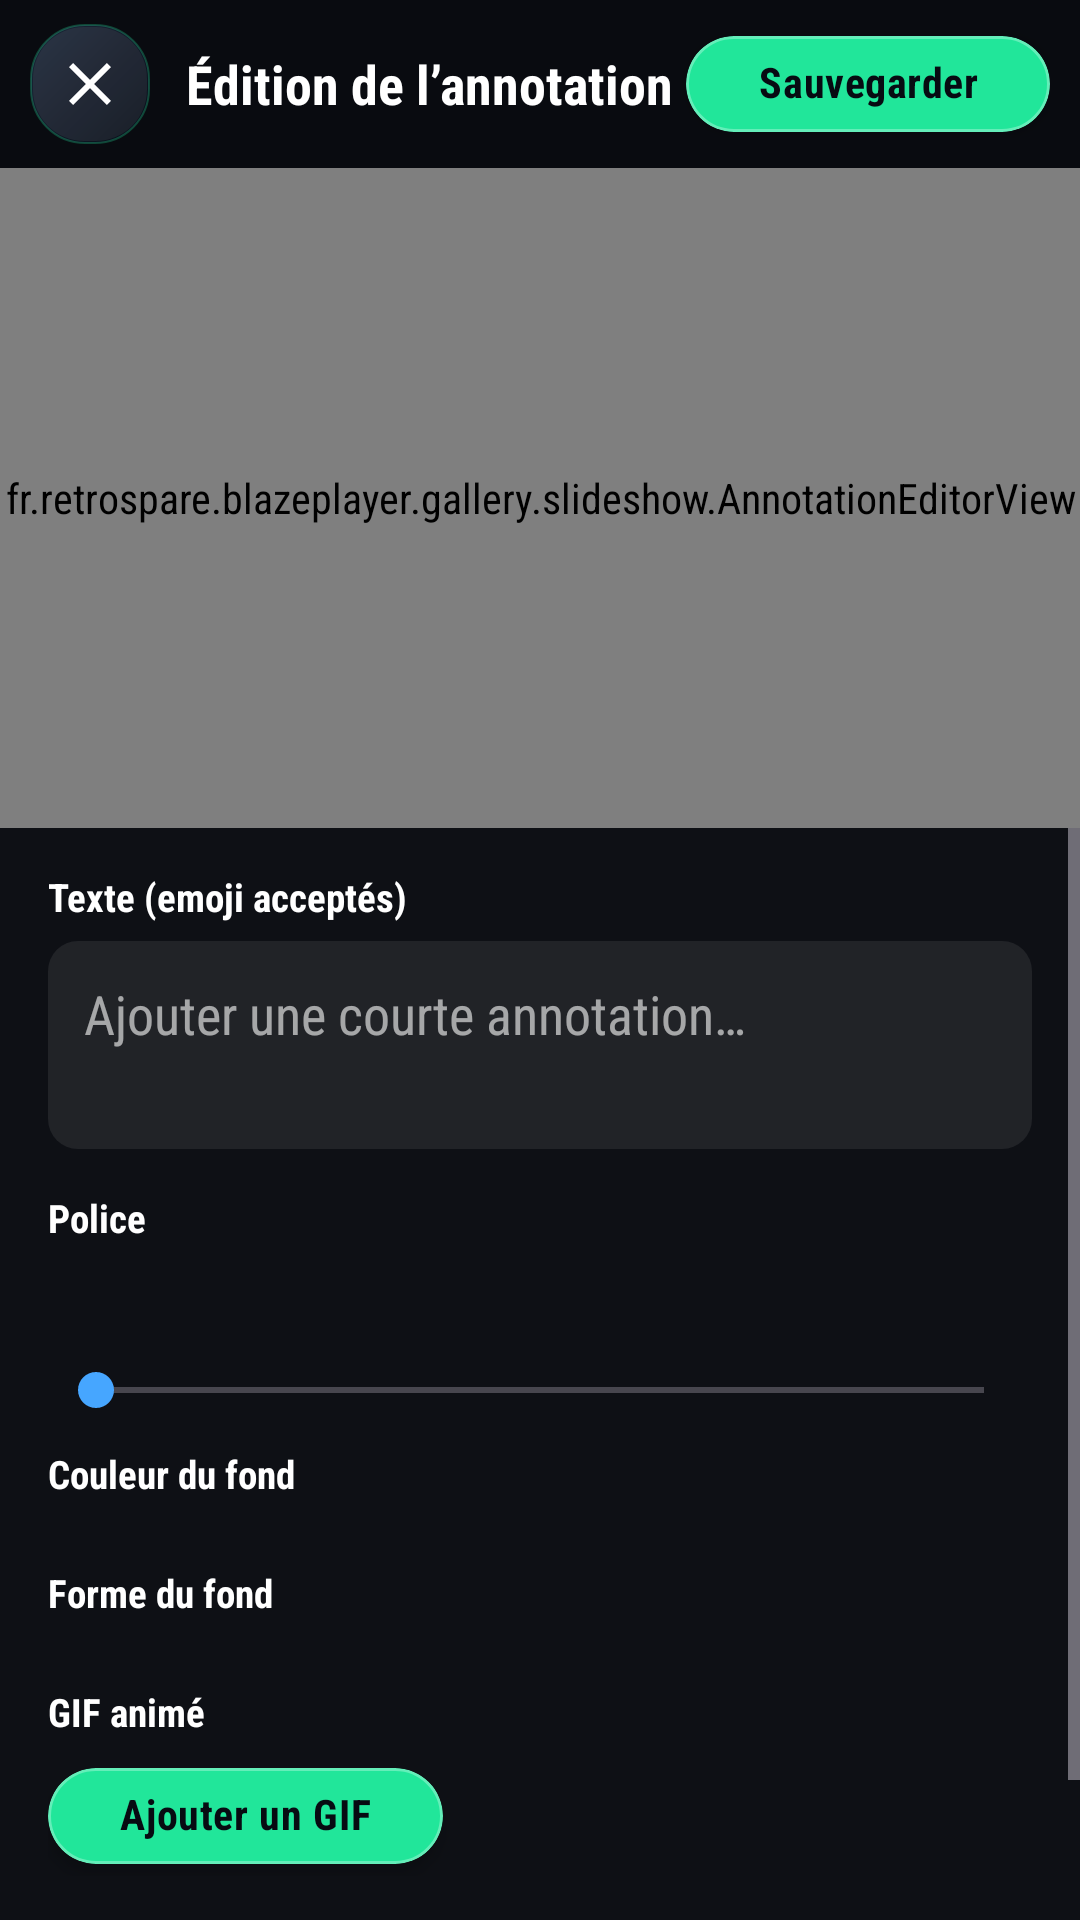

Named icons in this screenshot (1080×1920) and their centers, (x,y):
Fermer: (90,84)
